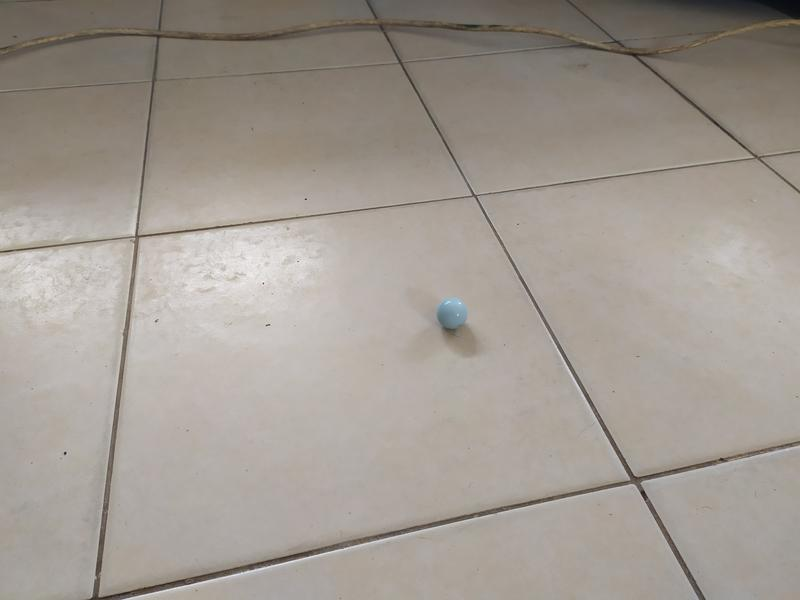Warning: (434, 294, 470, 331)
